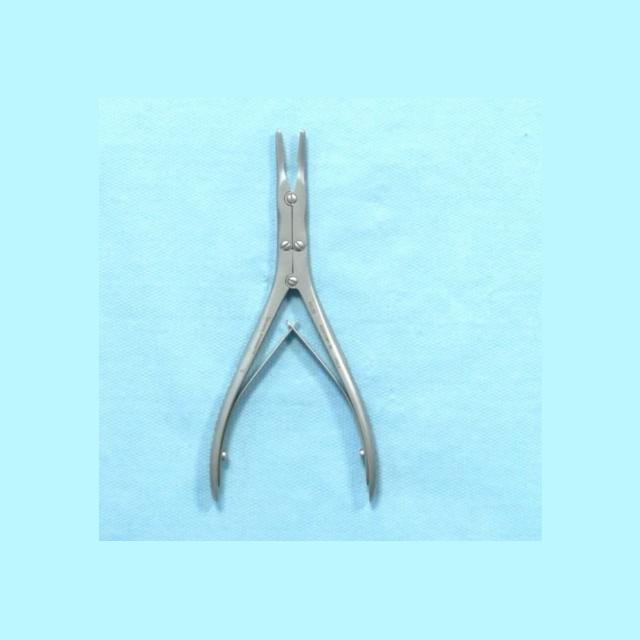gubia: (195, 134, 383, 513)
